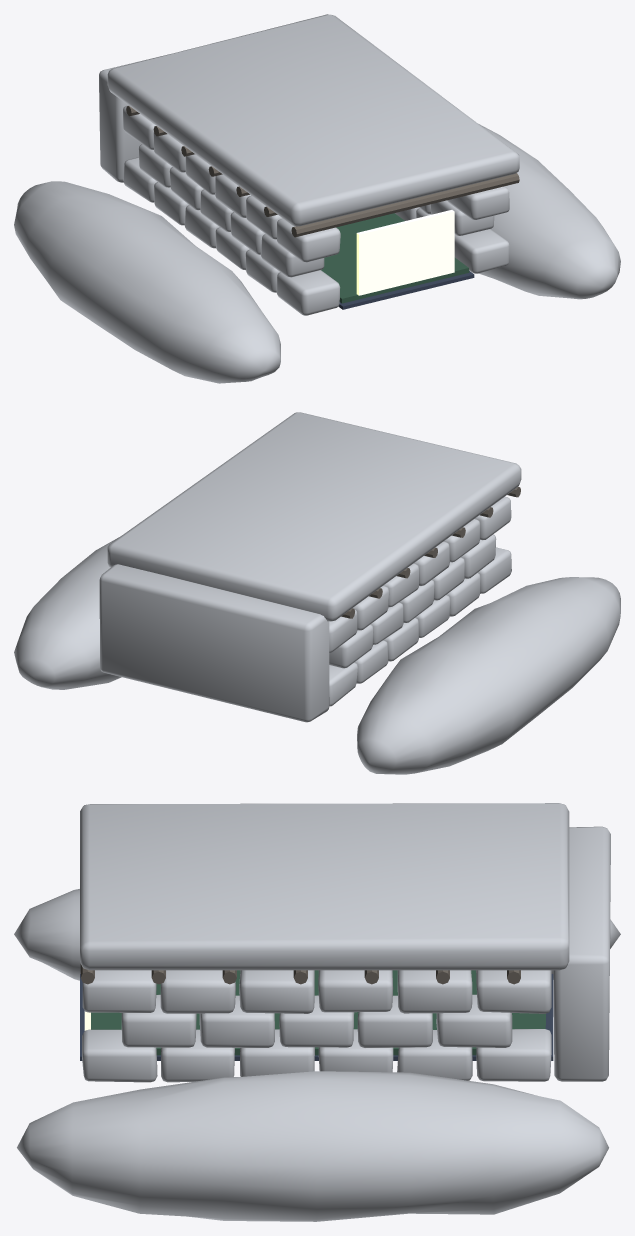
Rendered from SnowTrench.glb.
3 views of the same model, one above another, from view 1: azimuth 30°, elevation 25°; view 2: azimuth 150°, elevation 25°; view 3: azimuth 270°, elevation 25° (orthographic). The views are drawn at different scales.
Parts seen in each view (by area): view 1: s4_5__slabs, s1_1__spoil-1, s2_5__walls, s1_1__spoil1, s5_5__glow, s4_5__poles, s3_5__boughs, s5_5__endwall, s1_2__floor_cut; view 2: s4_5__slabs, s1_1__spoil-1, s5_5__endwall, s2_5__walls, s1_1__spoil1, s4_5__poles; view 3: s4_5__slabs, s1_1__spoil1, s2_5__walls, s5_5__endwall, s1_1__spoil-1, s3_5__boughs, s4_5__poles, s1_2__floor_cut.
Part boxes in pixels (<box>): s4_5__slabs: <box>107,14,519,226</box>; s1_1__spoil-1: <box>14,181,280,383</box>; s2_5__walls: <box>123,105,509,315</box>; s1_1__spoil1: <box>478,124,620,299</box>; s5_5__glow: <box>356,210,454,295</box>; s4_5__poles: <box>126,106,519,237</box>; s3_5__boughs: <box>321,213,469,303</box>; s5_5__endwall: <box>99,56,161,182</box>; s1_2__floor_cut: <box>338,271,474,309</box>; s4_5__slabs: <box>107,412,521,621</box>; s1_1__spoil-1: <box>357,577,620,774</box>; s5_5__endwall: <box>99,564,329,722</box>; s2_5__walls: <box>329,496,511,706</box>; s1_1__spoil1: <box>14,537,121,689</box>; s4_5__poles: <box>341,487,520,618</box>; s4_5__slabs: <box>80,803,569,970</box>; s1_1__spoil1: <box>17,1071,608,1221</box>; s2_5__walls: <box>82,970,551,1082</box>; s5_5__endwall: <box>553,826,610,1081</box>; s1_1__spoil-1: <box>14,889,620,980</box>; s3_5__boughs: <box>91,970,545,1055</box>; s4_5__poles: <box>80,964,520,984</box>; s1_2__floor_cut: <box>80,974,553,1060</box>.
Size of the model in its own units: 4.41 by 1.66 by 3.84.
